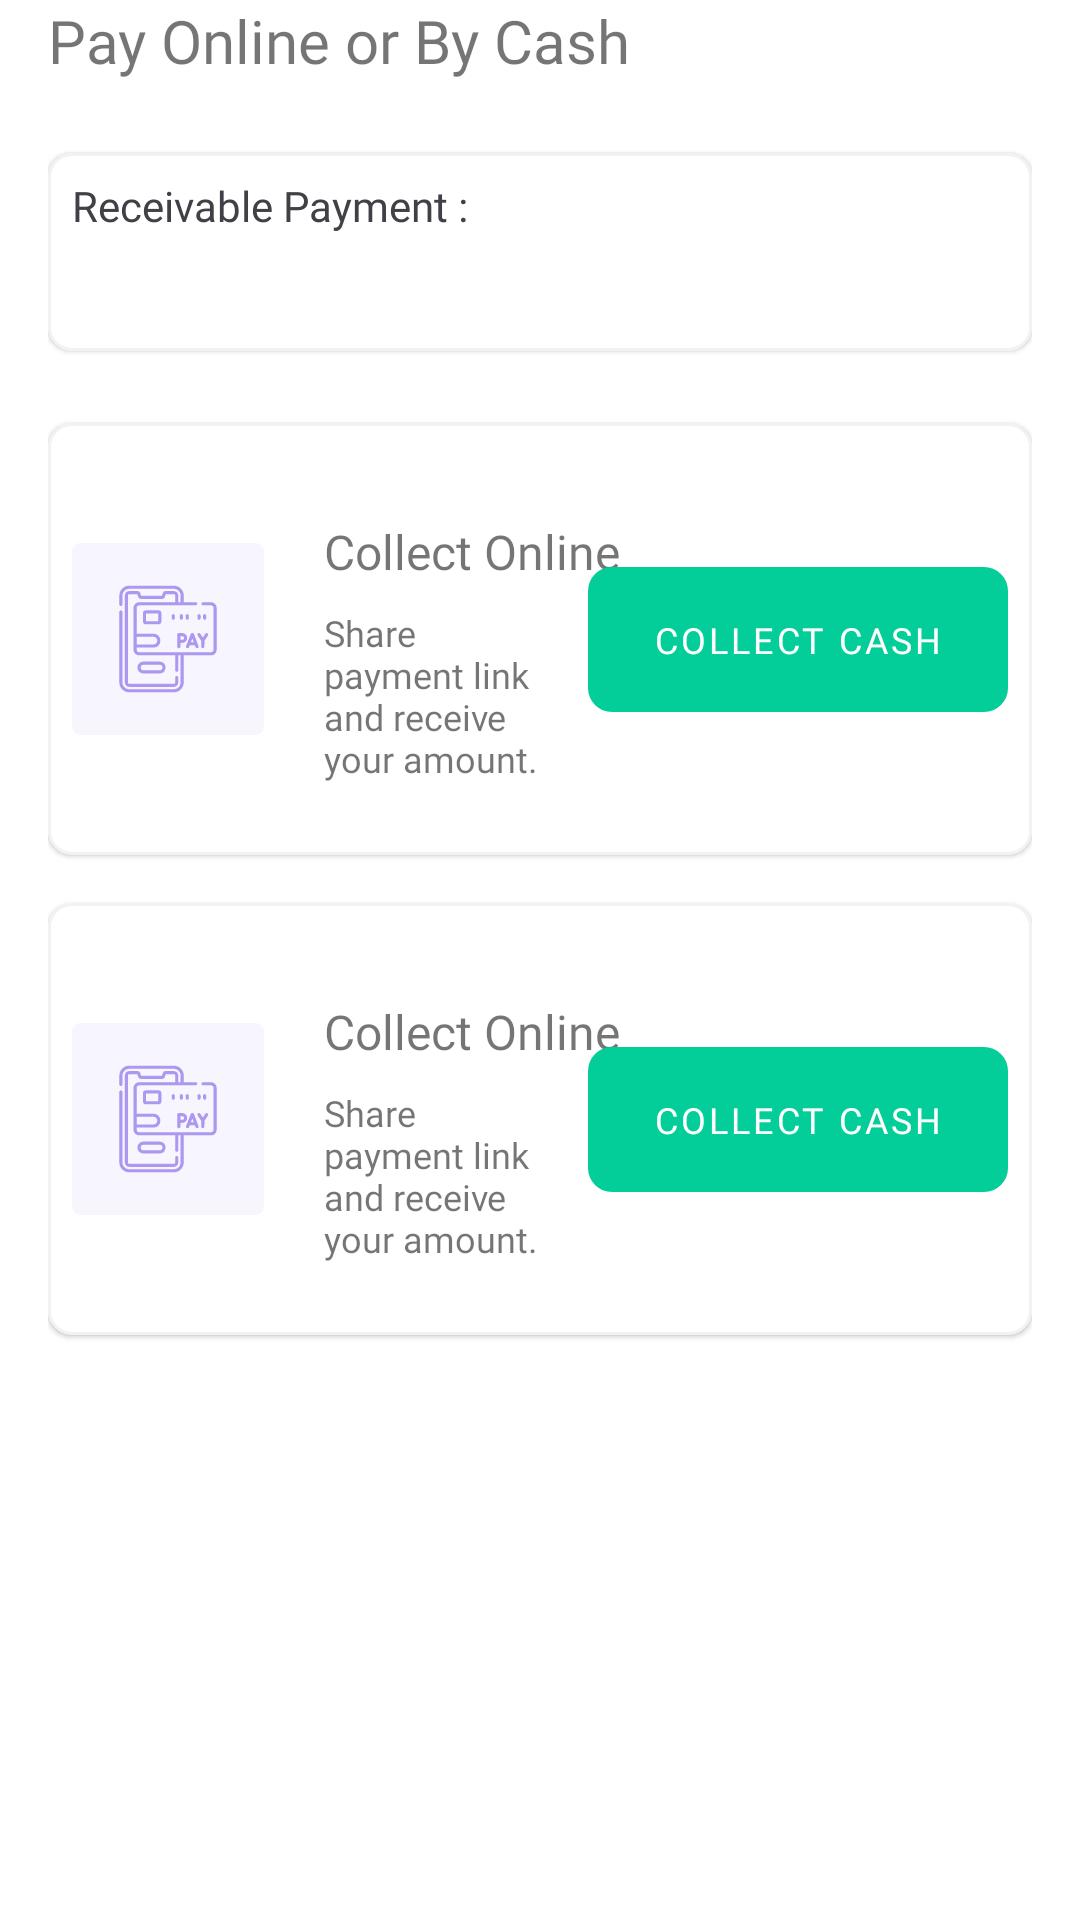

Where to tap for icons on this 1080px x 1920px app screen, as (x=x, y=y):
phone pay: (x=168, y=639), (x=168, y=1119)
